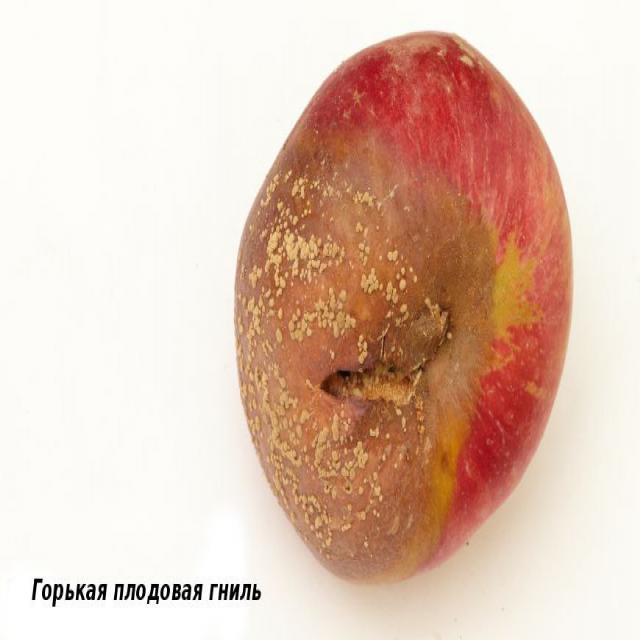Rotten: (228, 43, 575, 577)
